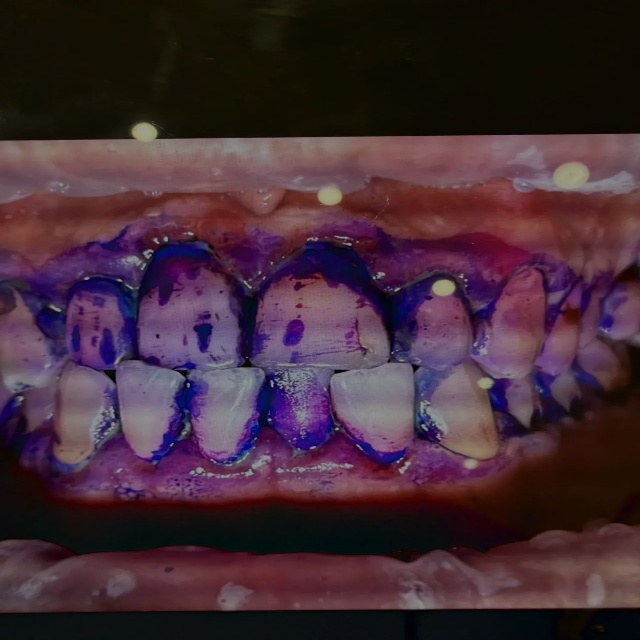clean_tooth: (119, 123, 181, 154), (554, 163, 588, 187)
plaque: (0, 220, 504, 491), (359, 238, 639, 430)
